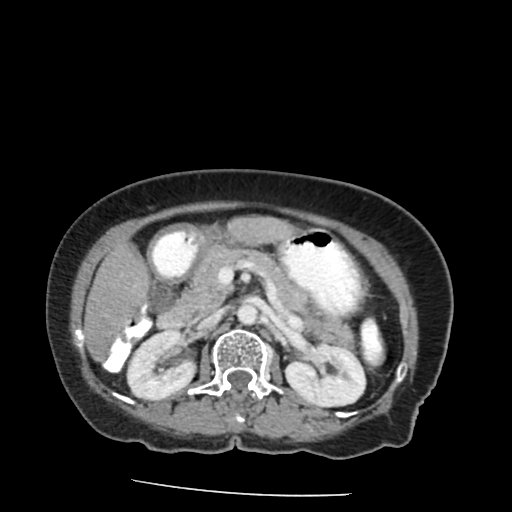aorta: (237, 259, 303, 325)
